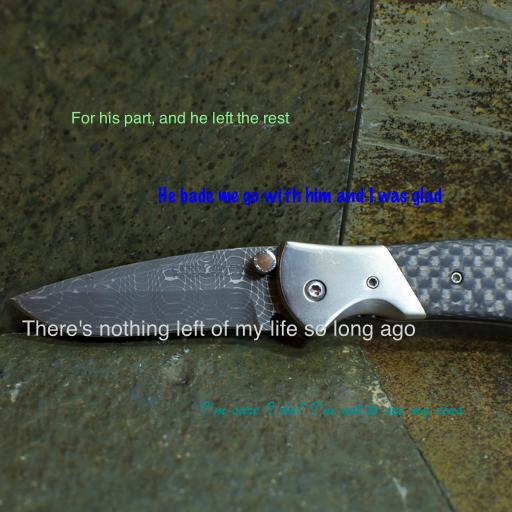Big Caslon: (22, 320, 416, 341)
Brush Script MT: (199, 400, 463, 420)
Marker Felt: (158, 186, 442, 206)
SignPainter: (71, 111, 289, 127)
